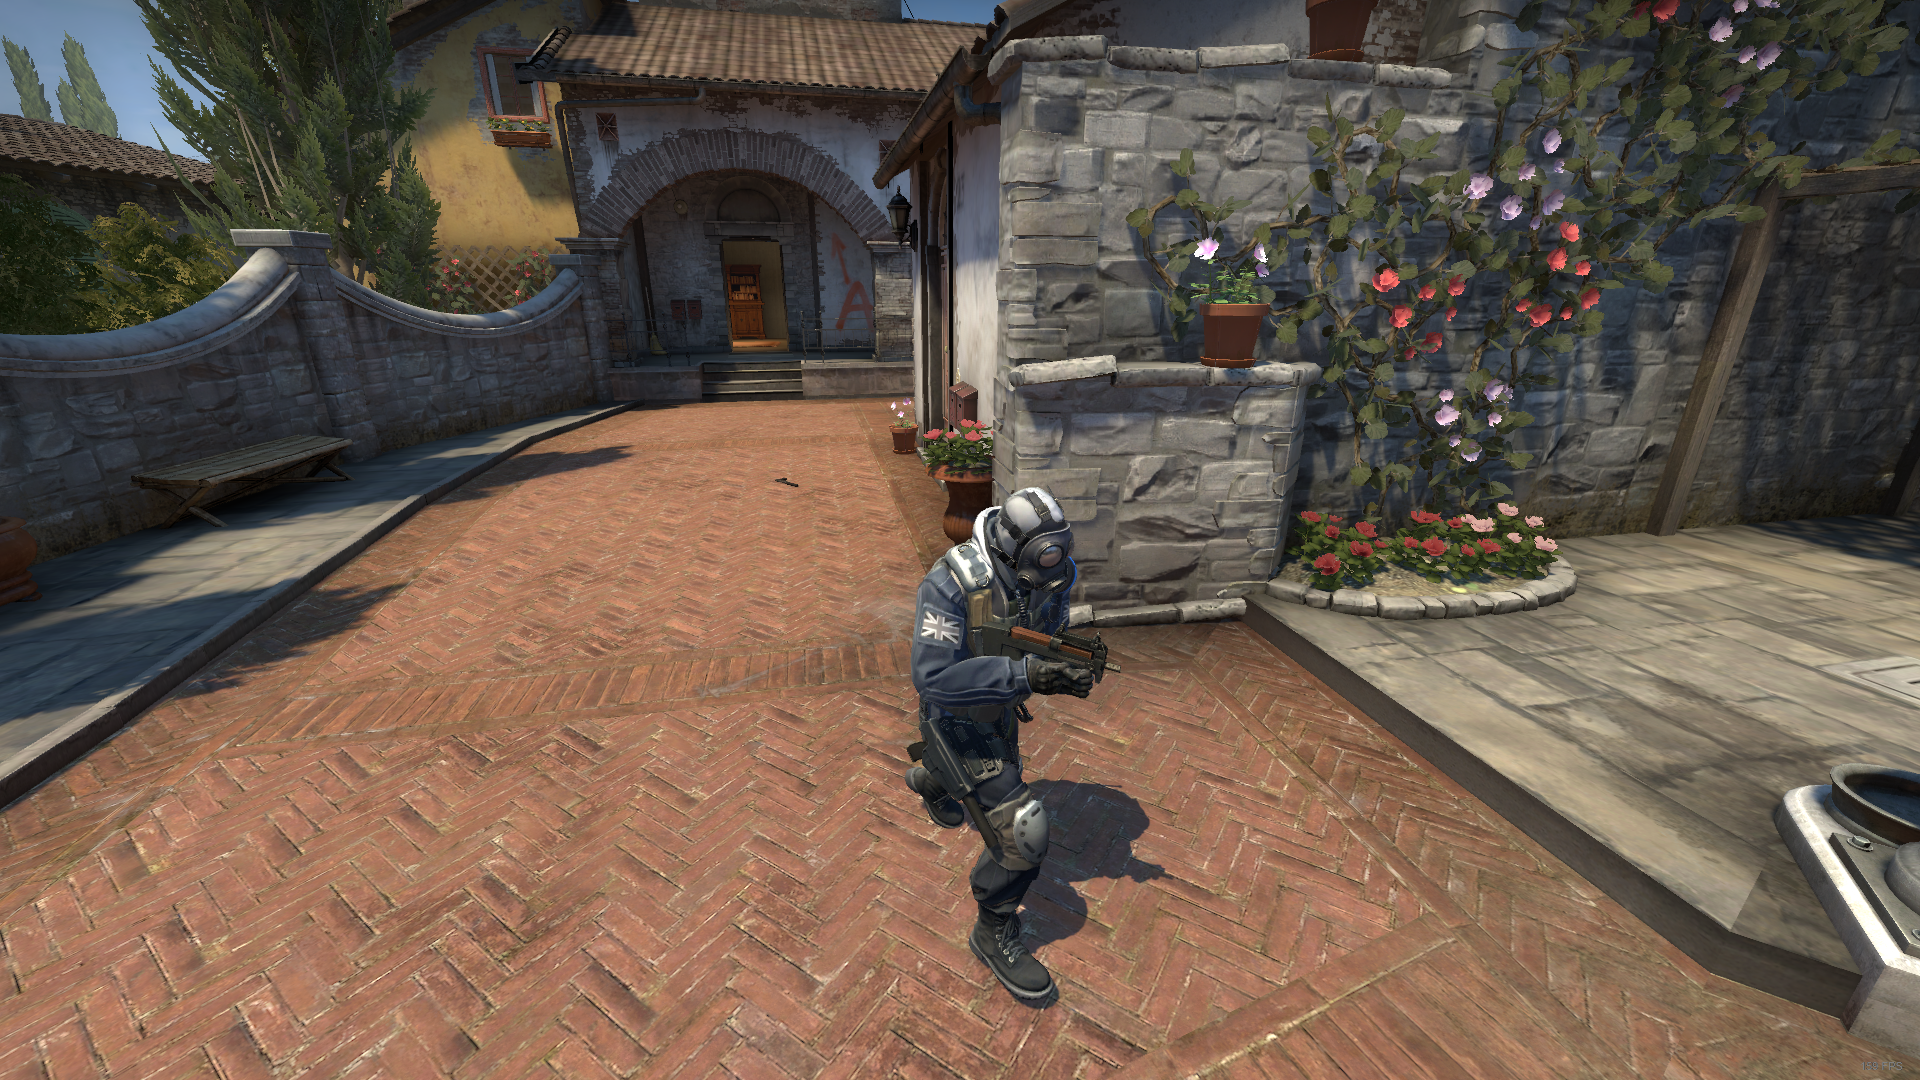ct: (893, 476, 1121, 1021)
